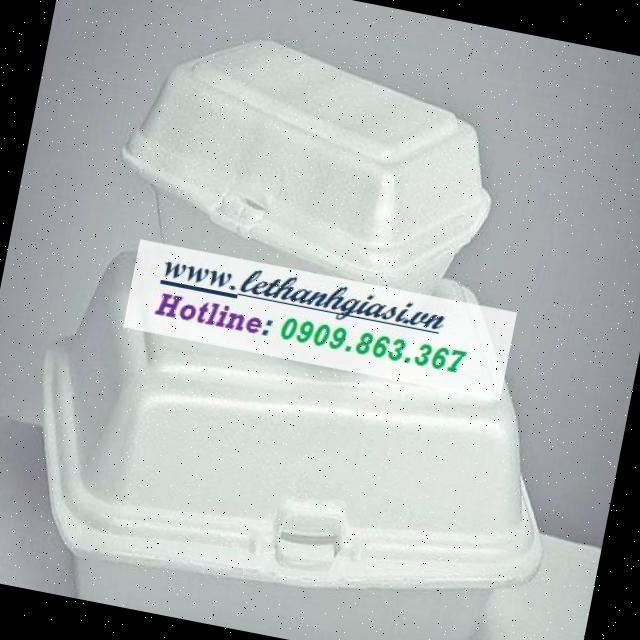styrofoam: (0, 6, 631, 640)
